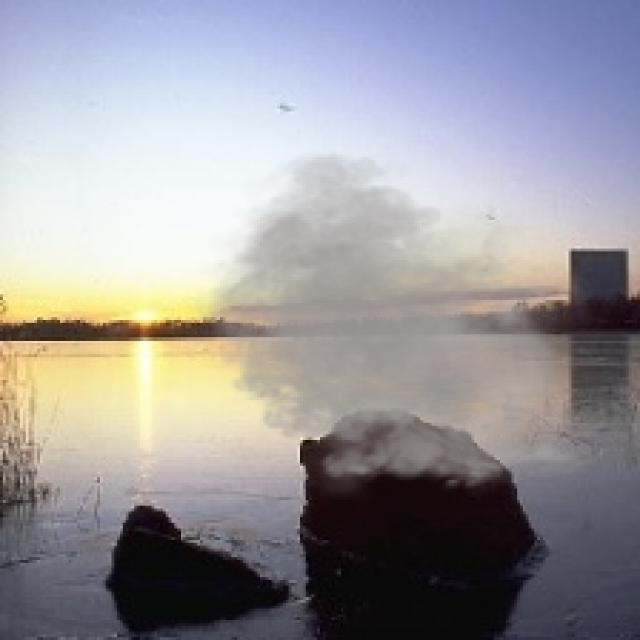Smoke: (180, 140, 606, 506)
